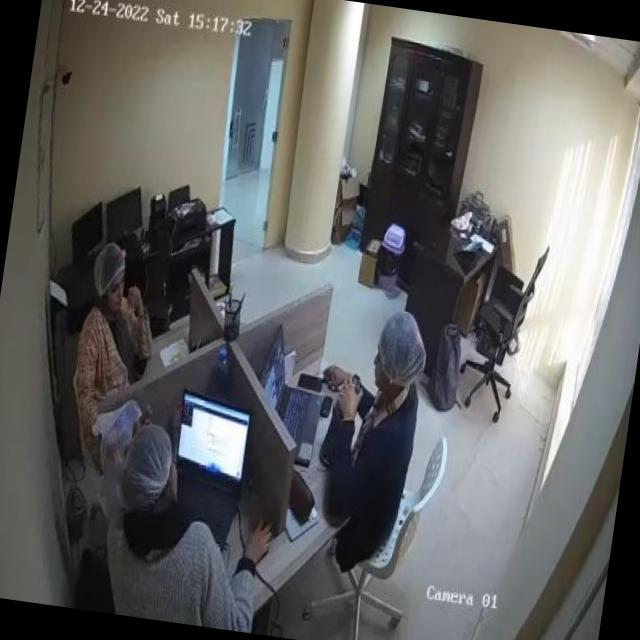hairnet: (381, 310, 434, 380), (122, 422, 174, 488), (93, 240, 128, 278)
